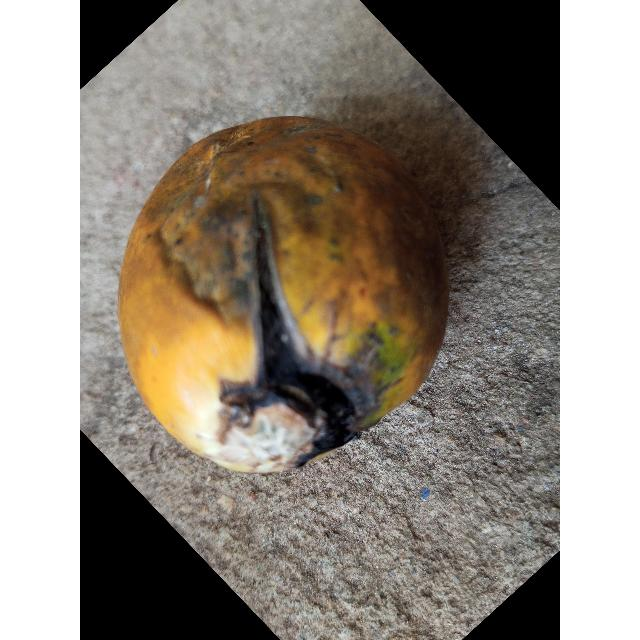damaged: (119, 117, 449, 474)
